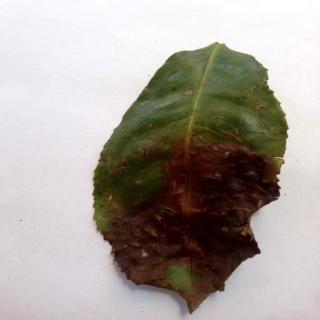Algal Leaf: (94, 41, 290, 311)
